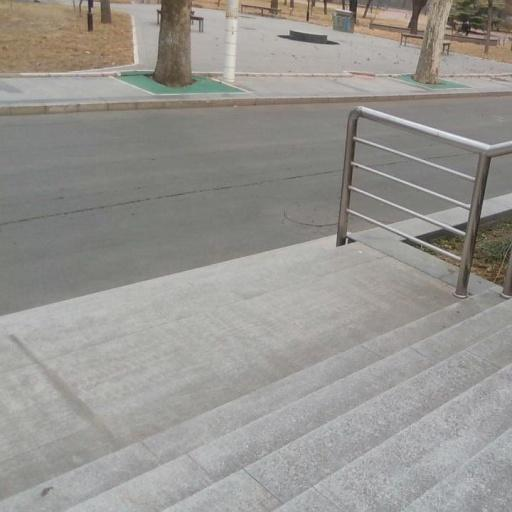stairs: (0, 288, 511, 511)
